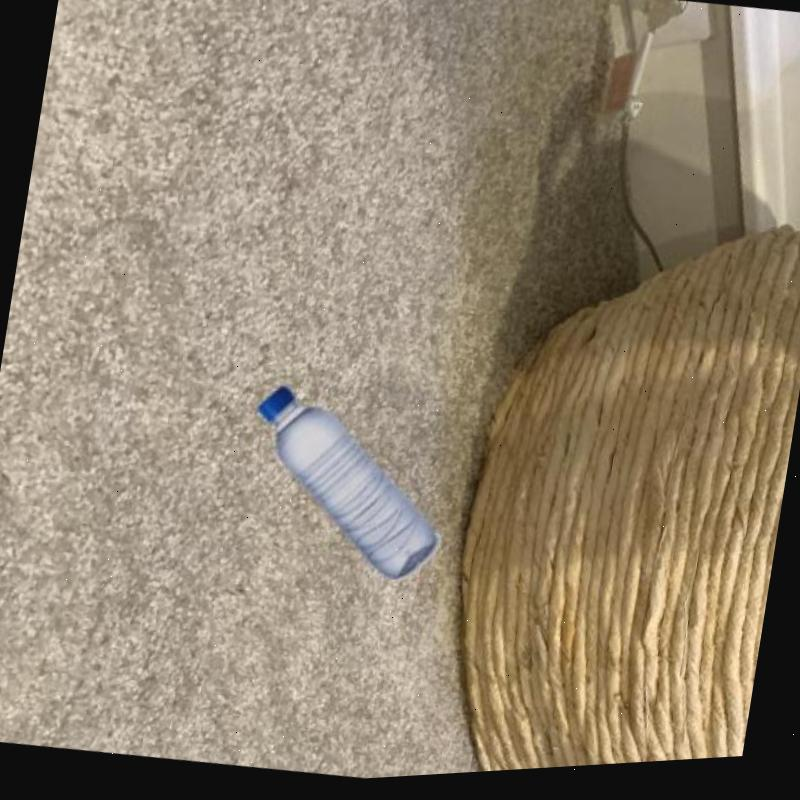botella: (233, 376, 460, 597)
